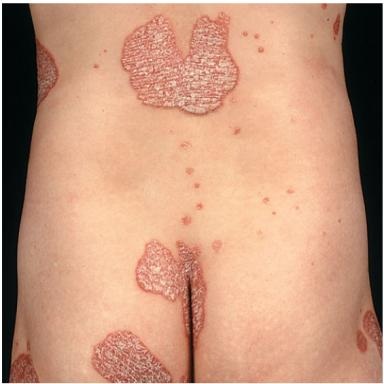Psoriasis: (121, 12, 238, 114), (137, 240, 206, 344), (91, 331, 172, 383), (36, 39, 58, 107), (363, 310, 383, 358), (10, 354, 39, 383), (356, 330, 367, 352)
